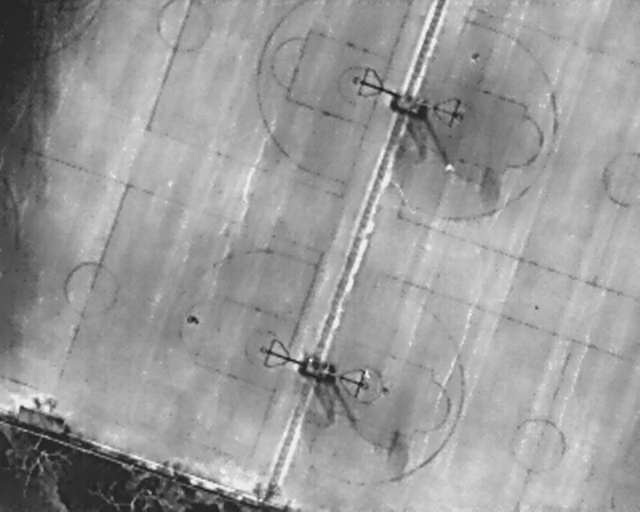Person: (186, 313, 201, 327), (444, 161, 456, 176), (470, 51, 482, 62)
